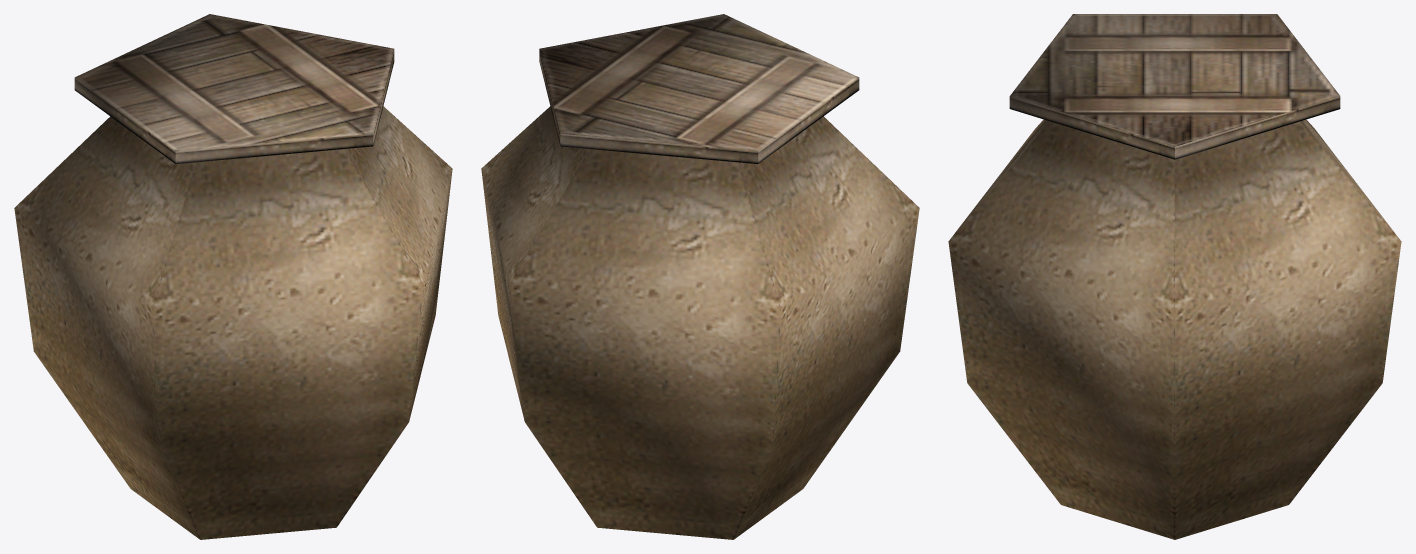
File: urn.glb
3 views of the same model, side by side, from view 1: azimuth 30°, elevation 25°; view 2: azimuth 150°, elevation 25°; view 3: azimuth 270°, elevation 25° (orthographic).
Parts seen in each view (by area): view 1: Object01; view 2: Object01; view 3: Object01.
Boxes of the visible parts, x1,y1,x2,y2 form: Object01: [14, 14, 452, 539]; Object01: [481, 14, 919, 539]; Object01: [948, 14, 1401, 539].
Bounding box in the file's own units: 0.055 × 0.0584 × 0.0579.
Materials: 1 (1 with a texture image).
